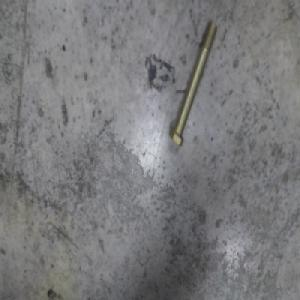Bolt: (167, 16, 217, 147)
